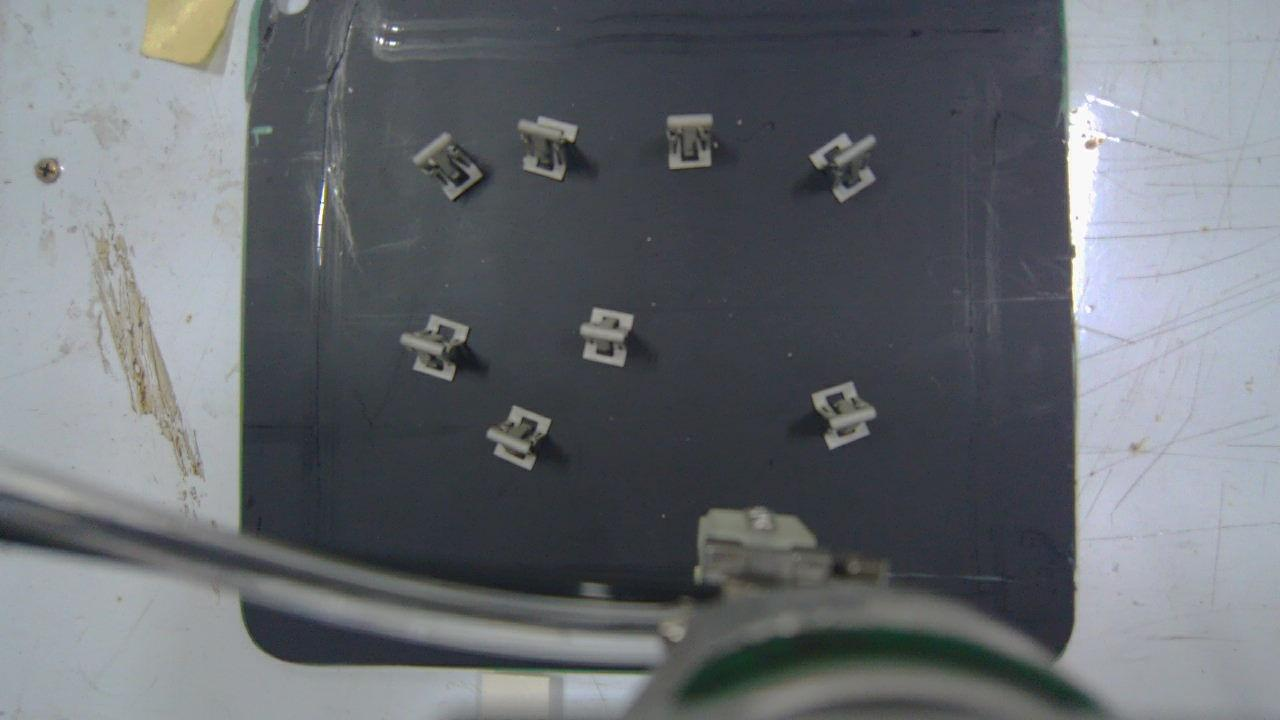ng: (413, 132, 483, 203), (487, 406, 553, 470), (520, 117, 580, 182), (668, 114, 712, 169)
pass: (401, 314, 470, 382), (812, 133, 876, 202), (814, 380, 876, 451), (579, 307, 634, 368)
